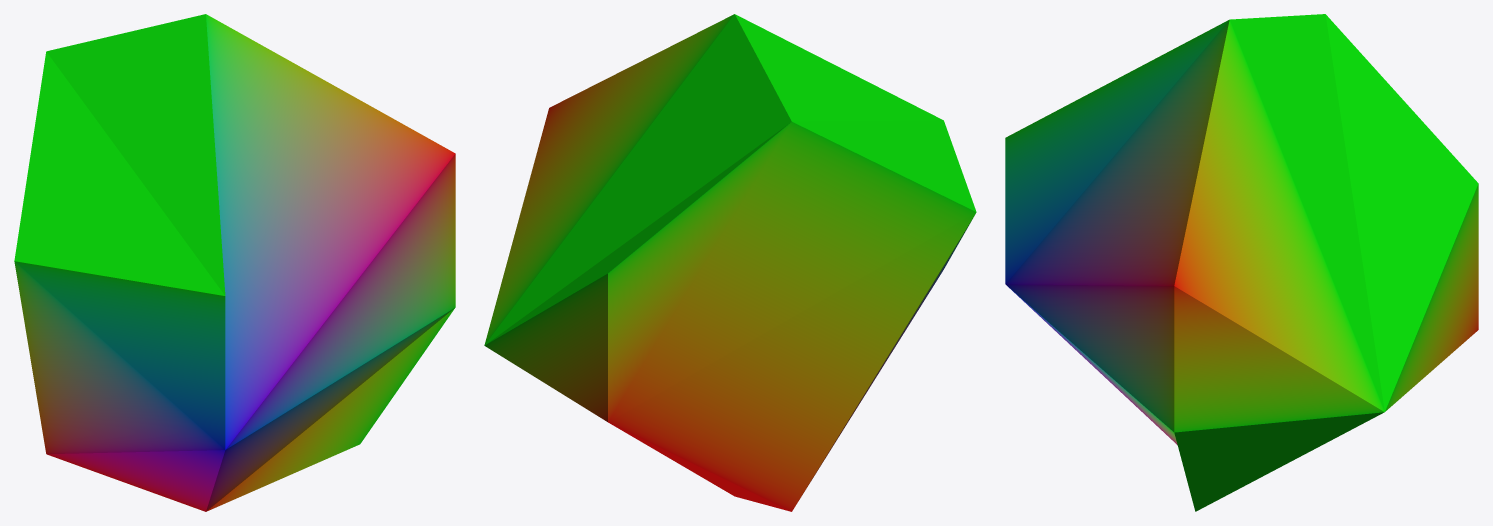
The model's file is all_3.obj.
3 views of the same model, side by side, from view 1: azimuth 30°, elevation 25°; view 2: azimuth 150°, elevation 25°; view 3: azimuth 270°, elevation 25° (orthographic). The views are drawn at different scales.
Size of the model in its own units: 1.85 by 2 by 1.81.
